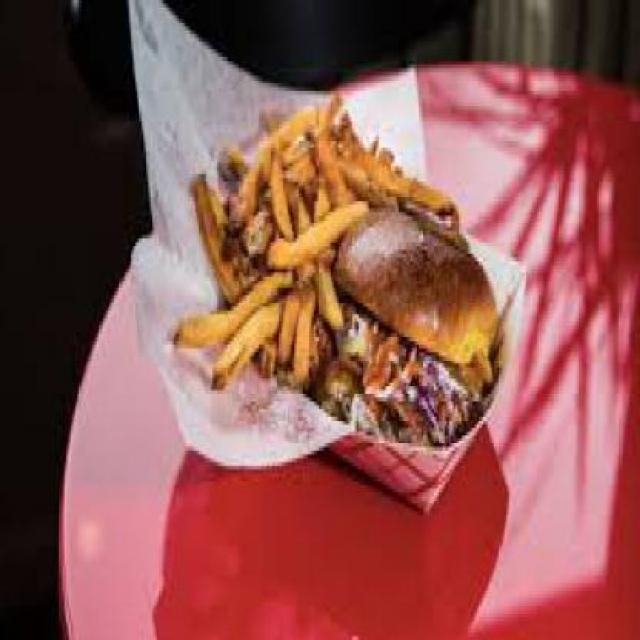french fries: (174, 94, 357, 401)
hamburger: (309, 200, 505, 443)
